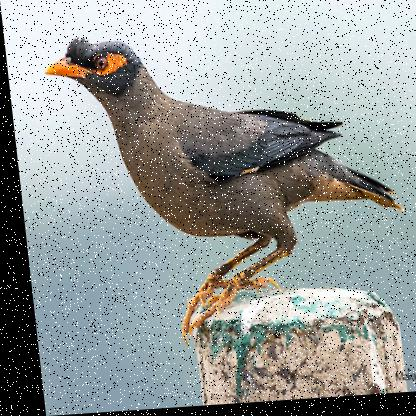Burung: (40, 22, 408, 352)
